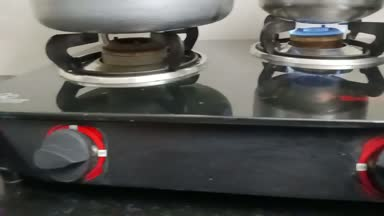flame_gas_off: (39, 26, 185, 184)
flame_gas_on: (262, 15, 383, 66)
